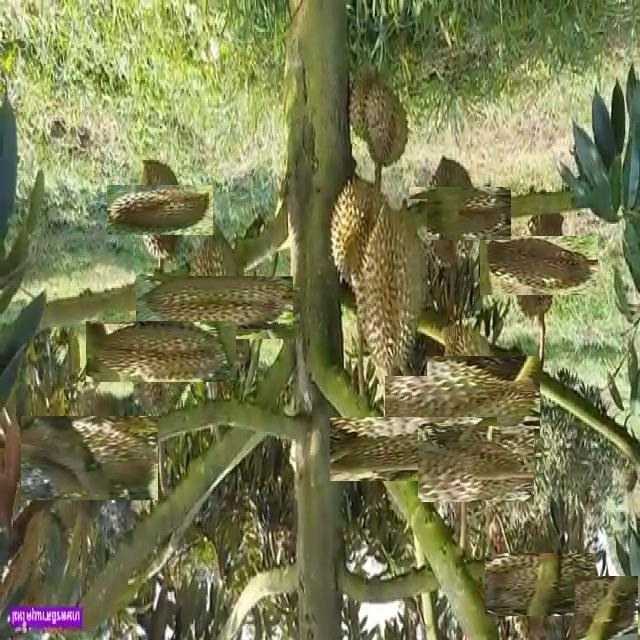durian: (402, 338, 522, 458), (356, 392, 472, 508), (352, 199, 427, 376), (34, 403, 146, 513), (108, 299, 214, 405), (161, 250, 267, 355), (327, 171, 409, 293), (177, 263, 277, 363), (427, 416, 524, 512), (494, 221, 584, 310), (345, 56, 414, 169), (497, 541, 584, 628), (408, 170, 494, 257), (121, 170, 199, 249), (575, 576, 639, 640)
